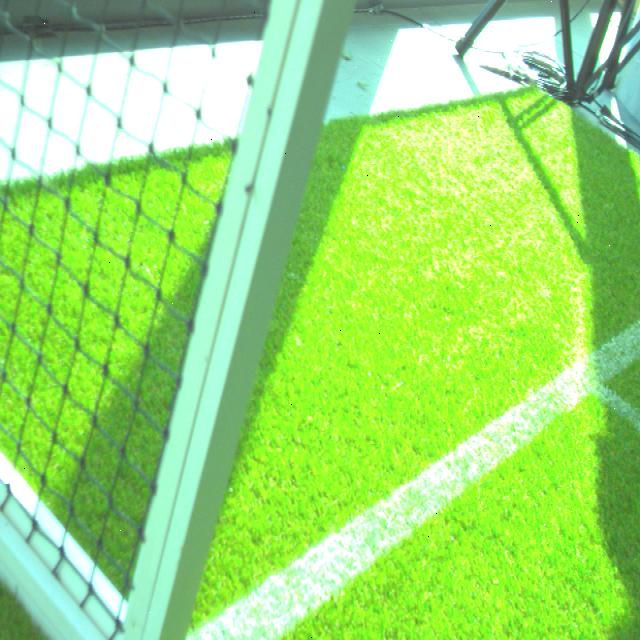goalpost: (122, 1, 359, 639)
